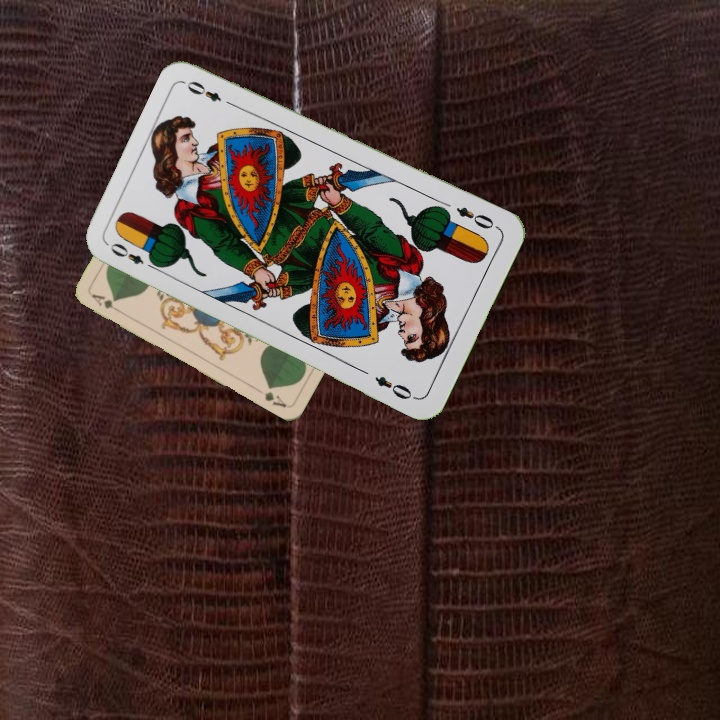EO: (106, 238, 161, 273), (452, 203, 501, 232)
GA: (88, 290, 124, 316)
